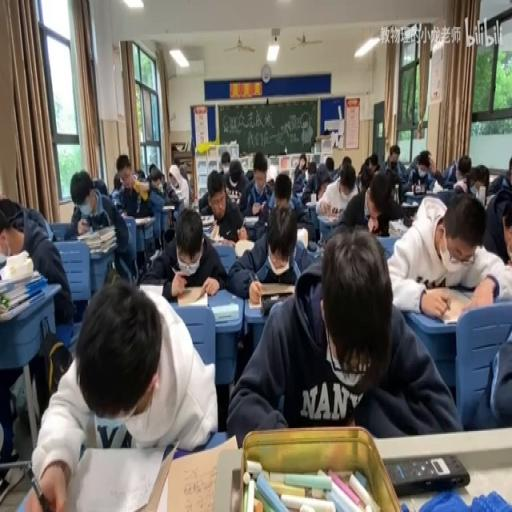calculator: (160, 436, 237, 512), (424, 284, 473, 323), (250, 280, 294, 309), (372, 232, 402, 259), (176, 287, 208, 307), (210, 302, 238, 322), (48, 222, 73, 240), (233, 238, 254, 256), (388, 218, 410, 234), (140, 283, 164, 297), (211, 234, 235, 248), (133, 176, 149, 194), (200, 214, 214, 234), (318, 213, 340, 225), (295, 226, 307, 248), (134, 214, 154, 224), (242, 215, 258, 226), (431, 179, 443, 192), (419, 186, 434, 194), (402, 199, 418, 206), (160, 205, 174, 210), (310, 192, 316, 202)
paper: (224, 229, 454, 442), (26, 277, 214, 509), (386, 191, 510, 314), (0, 193, 74, 331), (65, 170, 133, 284), (466, 304, 511, 430), (196, 168, 246, 244), (361, 168, 417, 234), (246, 166, 280, 236), (299, 155, 334, 203), (430, 151, 460, 186), (339, 192, 368, 228), (486, 155, 511, 195), (385, 144, 408, 184), (272, 170, 291, 208), (0, 196, 21, 230), (470, 165, 490, 198), (178, 164, 192, 202), (501, 209, 511, 257), (340, 165, 355, 195), (148, 162, 164, 186), (291, 169, 305, 195), (218, 150, 230, 176), (92, 176, 107, 196), (457, 155, 470, 176), (357, 161, 367, 182), (173, 196, 185, 212), (324, 155, 334, 171), (112, 174, 122, 190), (452, 182, 464, 195), (264, 180, 274, 194), (341, 156, 350, 170), (134, 169, 146, 179), (244, 169, 254, 181), (370, 158, 378, 173), (308, 162, 316, 175), (428, 155, 435, 169), (509, 159, 512, 179)
person: (386, 452, 470, 494)
